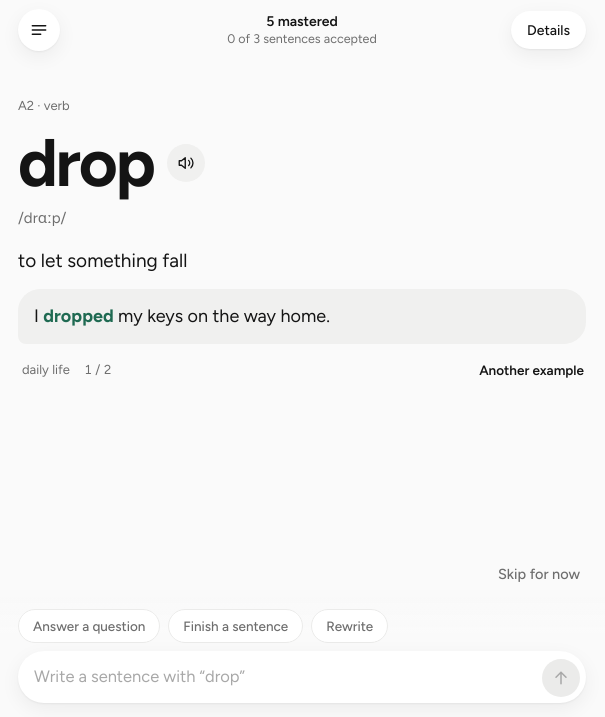
it: Study › turns a writing idea into a prompt and prefills a starter
This screenshot has width=605, height=717.
Click the button "Finish a sentence".
click(236, 626)  # box left=168, top=609, right=303, bottom=643
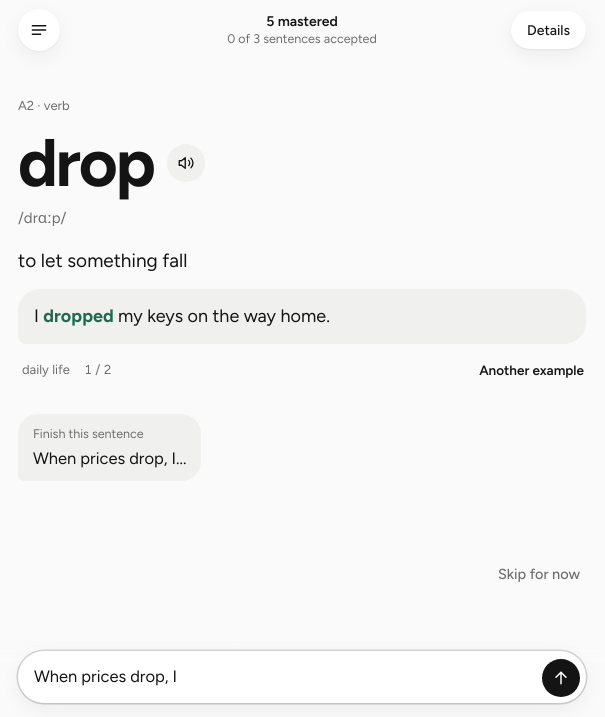
Expected: the text "When prices drop, I..." is shown, left=33, top=446, right=186, bottom=470
Expected: the text box named "Your sentence" holds "When prices drop, I ", left=34, top=657, right=536, bottom=697
